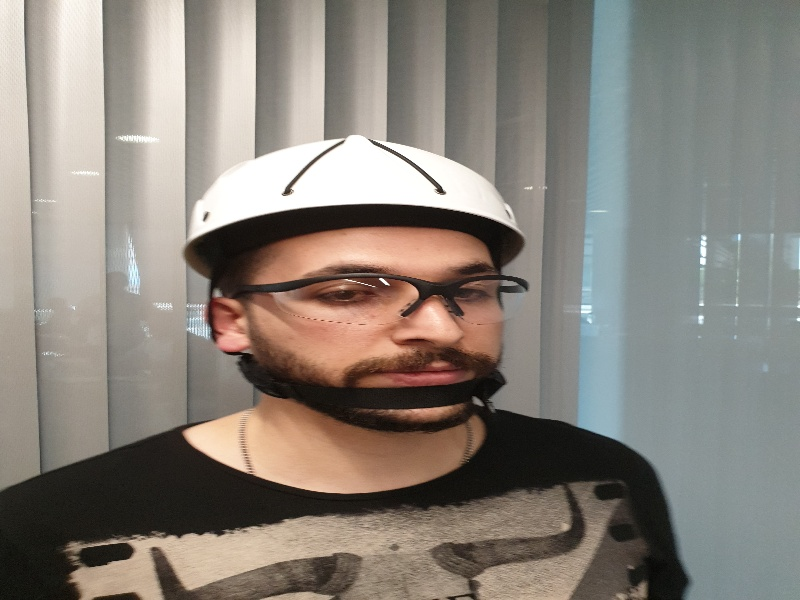Baret: (175, 137, 526, 248)
Gozluk: (226, 272, 530, 323)
